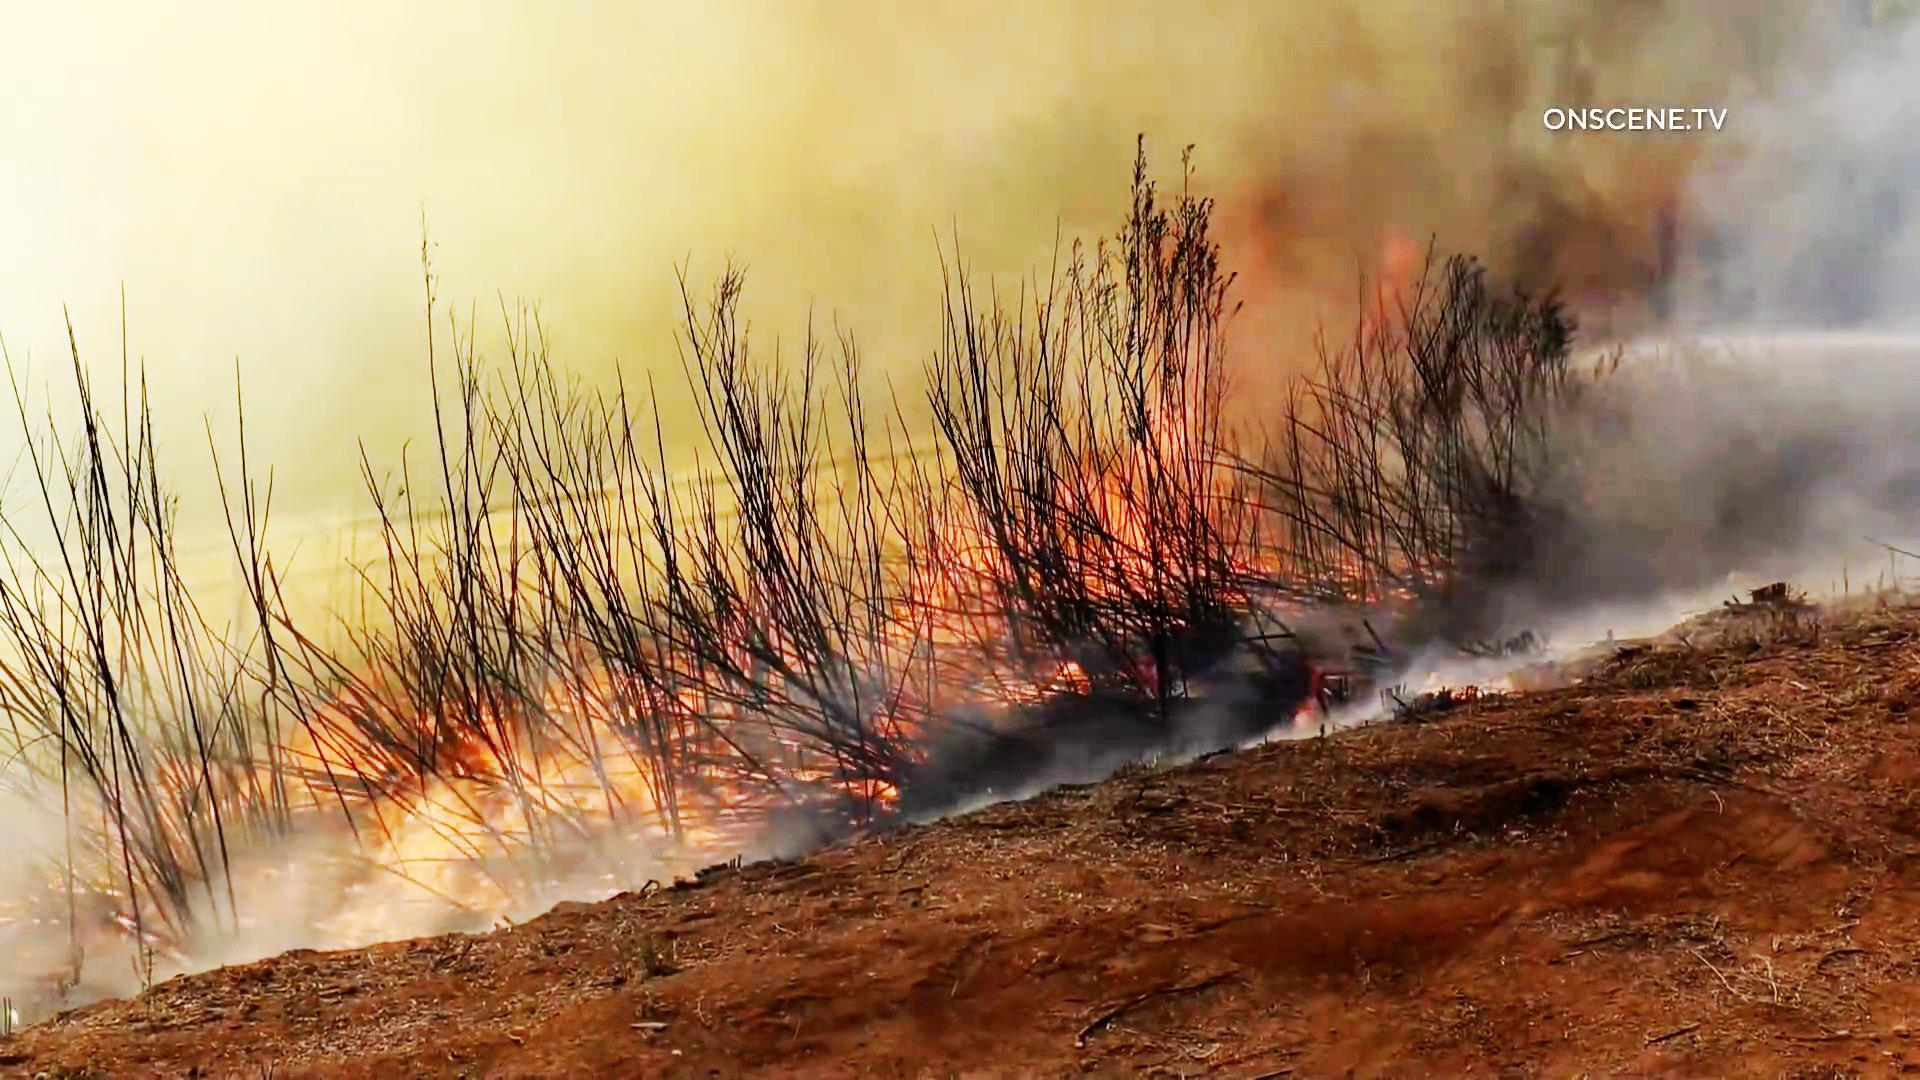fire: (301, 741, 549, 952), (559, 646, 725, 910)
smoke: (5, 5, 1065, 281), (5, 310, 923, 596), (1247, 239, 1919, 525)
